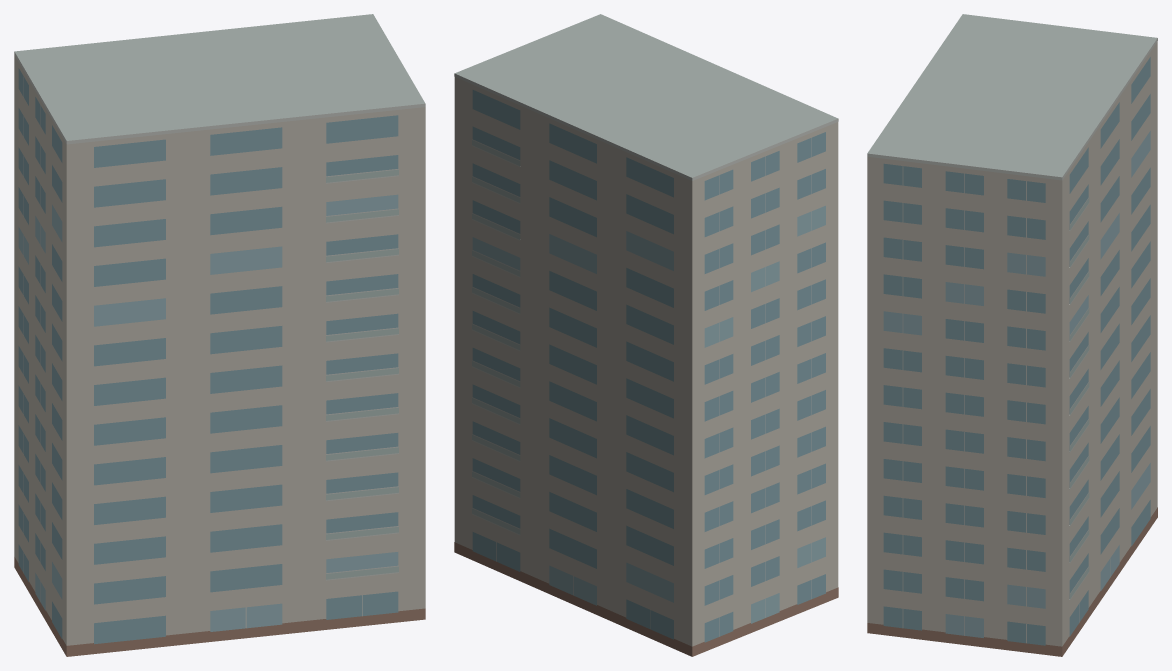
The model's file is residential-48947273-6320-459b-a0ef-77e299e6beff.glb.
3 renders of one model, left to right at view 1: azimuth 30°, elevation 25°; view 2: azimuth 150°, elevation 25°; view 3: azimuth 270°, elevation 25°, orthographic. The views are drawn at different scales.
Parts seen in each view (by area): view 1: residential-48947273-6320-459b-a0ef-77e299e6beff.tmp; view 2: residential-48947273-6320-459b-a0ef-77e299e6beff.tmp; view 3: residential-48947273-6320-459b-a0ef-77e299e6beff.tmp.
Boxes of the visible parts, <box> form: residential-48947273-6320-459b-a0ef-77e299e6beff.tmp: <box>14,14,425,656</box>; residential-48947273-6320-459b-a0ef-77e299e6beff.tmp: <box>454,14,838,656</box>; residential-48947273-6320-459b-a0ef-77e299e6beff.tmp: <box>867,14,1157,656</box>.
Bounding box in the file's own units: 27.03 × 37 × 20.33.
